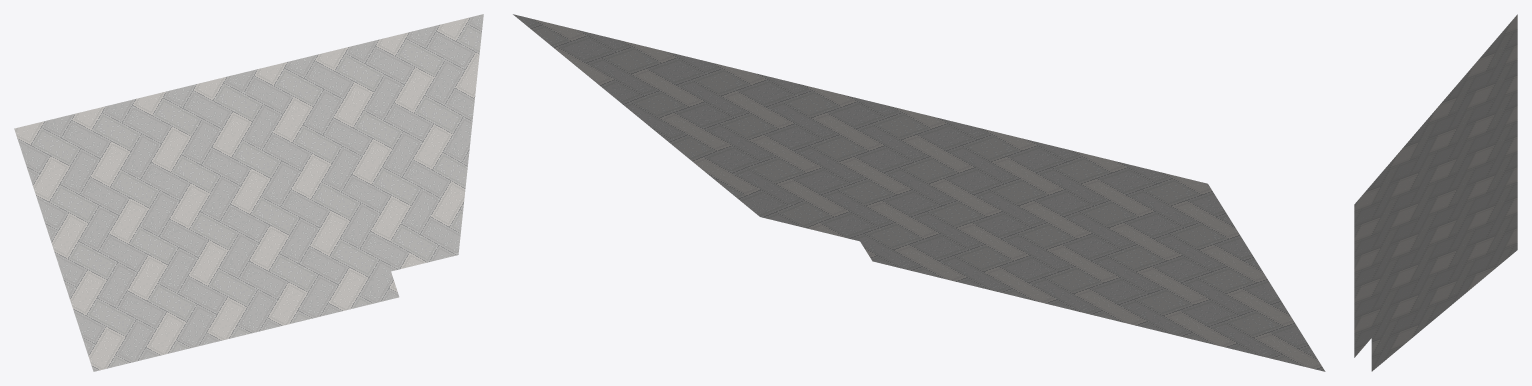
Rendered from kd_stage_135d18_3_13_bounded.glb.
The picture shows the model from 3 angles, left to right: view 1: azimuth 30°, elevation 25°; view 2: azimuth 150°, elevation 25°; view 3: azimuth 270°, elevation 25°; orthographic projection. The views are drawn at different scales.
Parts seen in each view (by area): view 1: kd_stage_135d18_3_13_bounded; view 2: kd_stage_135d18_3_13_bounded; view 3: kd_stage_135d18_3_13_bounded.
Boxes of the visible parts, box(x1,y1,x2,y2) form: kd_stage_135d18_3_13_bounded: box(14, 14, 483, 371); kd_stage_135d18_3_13_bounded: box(513, 14, 1325, 371); kd_stage_135d18_3_13_bounded: box(1354, 14, 1517, 371).
Size of the model in its own units: 8.31 by 3.13 by 2.44.
Materials: 1 (1 with a texture image).
